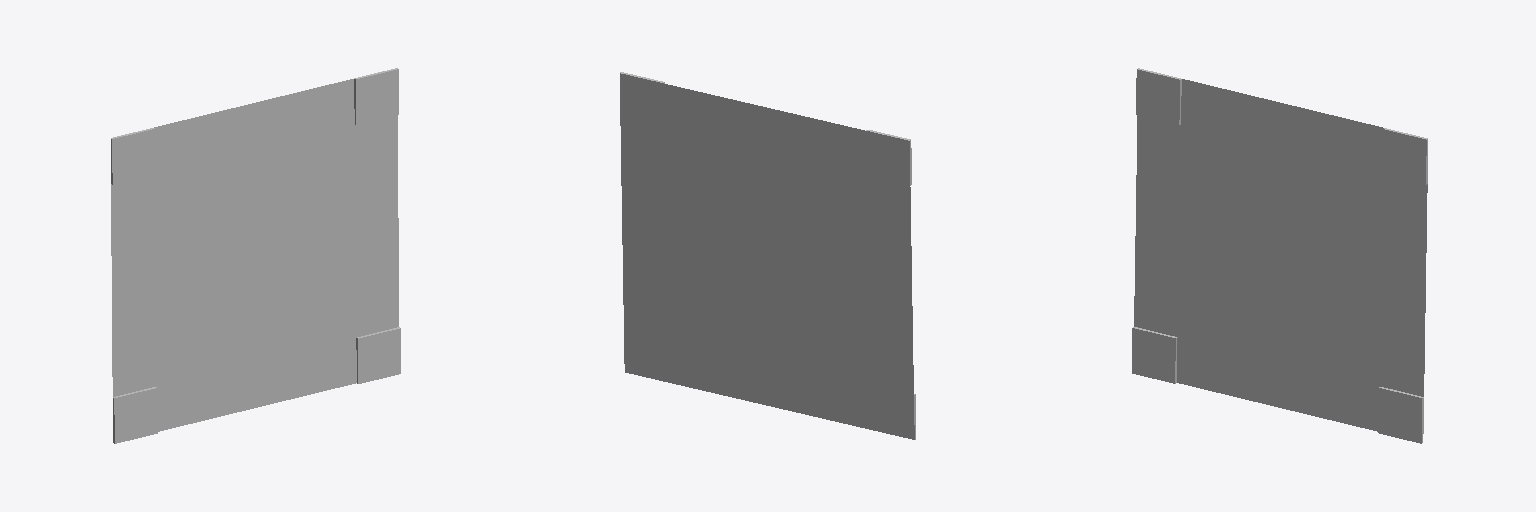
Rendered from road_accross.obj.
3 views of the same model, side by side, from view 1: azimuth 30°, elevation 25°; view 2: azimuth 150°, elevation 25°; view 3: azimuth 330°, elevation 25° (orthographic).
Parts seen in each view (by area): view 1: Road_Intersection_01; view 2: Road_Intersection_01; view 3: Road_Intersection_01.
Part boxes in pixels (bbox=[...]): Road_Intersection_01: bbox=[111, 68, 400, 443]; Road_Intersection_01: bbox=[620, 72, 915, 439]; Road_Intersection_01: bbox=[1132, 68, 1427, 443].
Bounding box in the file's own units: 6.44 × 6.44 × 0.2748.